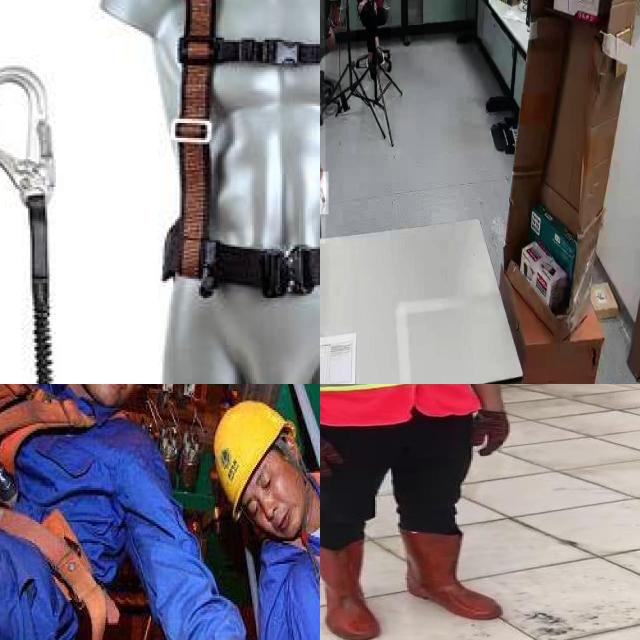Harness: (153, 0, 320, 384), (0, 384, 117, 640)
boots: (398, 527, 505, 621), (320, 538, 382, 640)
hand_glove: (320, 171, 328, 215)
hand_noglove: (356, 0, 363, 17), (371, 0, 378, 16)
person: (320, 384, 537, 640), (356, 0, 391, 81)
